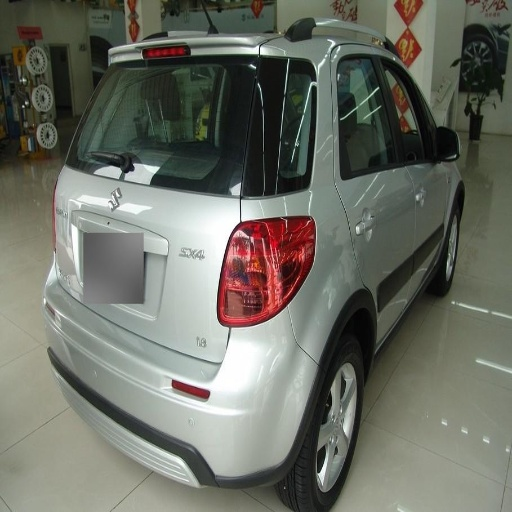back_bumper: (50, 276, 322, 498)
back_glass: (99, 63, 308, 194)
back_right_door: (335, 49, 412, 318)
tailgate: (59, 197, 223, 362)
trunk: (65, 160, 237, 347)
